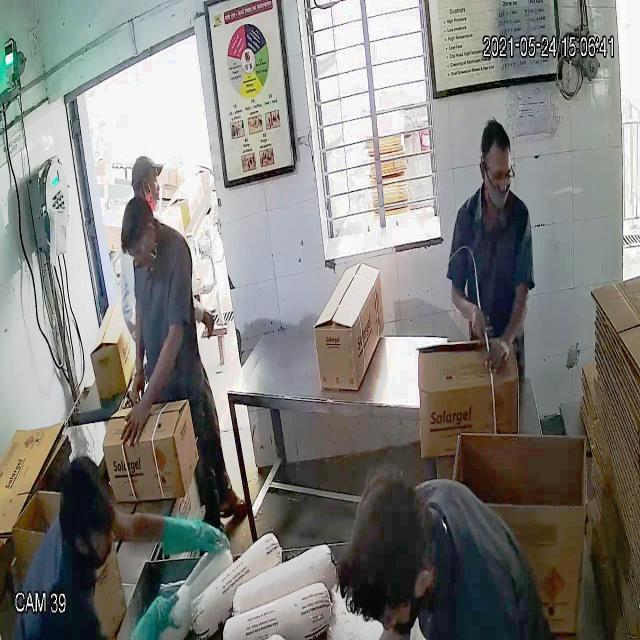glasses: (476, 155, 520, 193)
